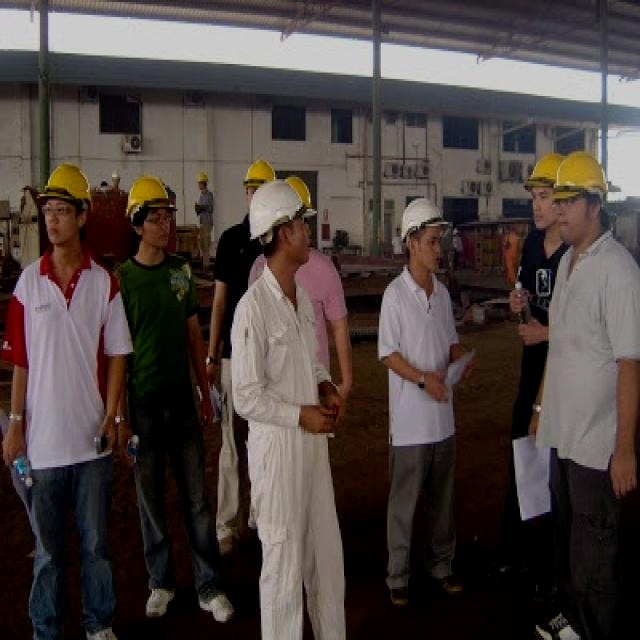Con_Casco: (248, 183, 308, 271), (555, 154, 605, 239), (37, 163, 89, 239)
Sin_Chaleco: (375, 266, 461, 414)
